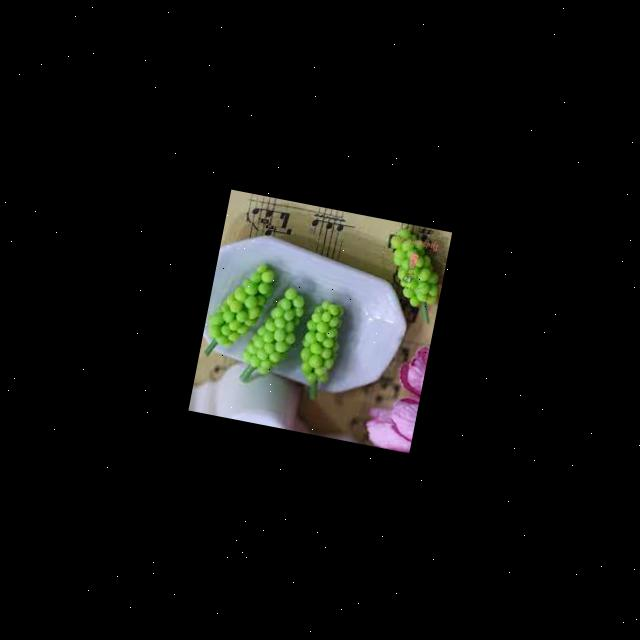grape: (200, 255, 278, 366), (236, 278, 308, 391), (373, 223, 450, 325), (290, 296, 348, 402)
